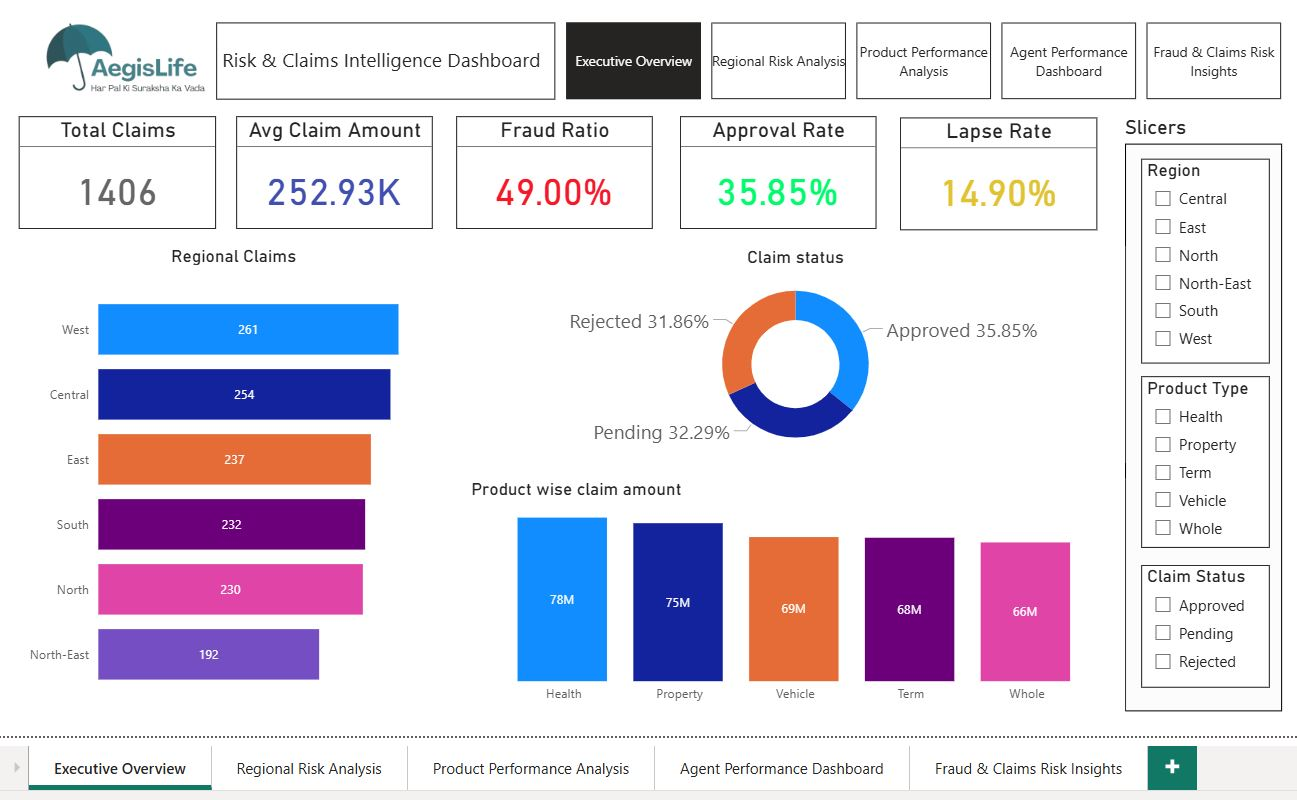

The dashboard page shown, as its layout file describes it:
{"tool":"powerbi","page":{"name":"Executive Overview","canvas":[1280,720],"ordinal":0},"visuals":[{"type":"shape","title":"Slicers","box":[1100.5,122.4,151.7,574.6],"z":0},{"type":"textbox","box":[223.2,31.4,326.9,74.8],"z":1000},{"type":"card","title":"Total Claims","fields":{"Values":["AllMeasures.Total Claims"]},"box":[32,122.4,190.6,108.5],"z":2000},{"type":"card","title":"Avg Claim Amount","fields":{"Values":["AllMeasures.Avg Claim Amount"]},"box":[242.1,122.4,189.2,108.5],"z":3000},{"type":"card","title":"Approval Rate","fields":{"Values":["AllMeasures.Approval Rate 1%"]},"box":[670.6,122.4,189.2,108.5],"z":4000},{"type":"card","title":"Fraud Ratio","fields":{"Values":["AllMeasures.Fraud Ratio %"]},"box":[455,122.4,189.2,108.5],"z":5000},{"type":"card","title":"Lapse Rate","fields":{"Values":["AllMeasures.Lapse Rate"]},"box":[882.6,123.1,190,108.6],"z":6000},{"type":"barChart","title":"Regional Claims","fields":{"Y":["AllMeasures.Total Claims"],"Category":["aegislife_insurance customer_master.region"],"Series":["aegislife_insurance customer_master.region"]},"box":[32.6,246.1,415,451.2],"z":7000},{"type":"columnChart","title":"Product wise claim amount","fields":{"Y":["AllMeasures.Total Claim Amount"],"Category":["aegislife_insurance policy_details.product_type"],"Series":["aegislife_insurance policy_details.product_type"]},"box":[464.5,471.7,635.8,225.6],"z":8000},{"type":"donutChart","title":"Claim status","fields":{"Category":["aegislife_insurance claim_history.claim_status"],"Y":["CountNonNull(aegislife_insurance claim_history.policy_id)"]},"box":[464.5,247.3,635.8,208.7],"z":9000},{"type":"pageNavigator","box":[561,31.4,692.5,74.8],"z":10000},{"type":"slicer","title":"Region","fields":{"Values":["aegislife_insurance agent_info.region"]},"box":[1115.8,162.8,123.8,197.6],"z":11000},{"type":"slicer","title":"Product Type","fields":{"Values":["aegislife_insurance policy_details.product_type"]},"box":[1115.8,372.9,123.8,165.6],"z":12000},{"type":"slicer","title":"Claim Status","fields":{"Values":["aegislife_insurance claim_history.claim_status"]},"box":[1115.8,555.1,123.8,118.3],"z":13000},{"type":"image","box":[0,0,265.4,143.6],"z":14000}]}

Visuals, with their boxes on the page's 1280x720 design canvas (x1, y1, x2, y2). These are canvas units, not pixel positions in the 1297x800 screenshot, which may show the page scaled, cropped or inside an application window:
"Slicers" shape: crop(1100, 122, 1252, 697)
textbox: crop(223, 31, 550, 106)
"Total Claims" card: crop(32, 122, 223, 231)
"Avg Claim Amount" card: crop(242, 122, 431, 231)
"Approval Rate" card: crop(671, 122, 860, 231)
"Fraud Ratio" card: crop(455, 122, 644, 231)
"Lapse Rate" card: crop(883, 123, 1073, 232)
"Regional Claims" barChart: crop(33, 246, 448, 697)
"Product wise claim amount" columnChart: crop(464, 472, 1100, 697)
"Claim status" donutChart: crop(464, 247, 1100, 456)
pageNavigator: crop(561, 31, 1254, 106)
"Region" slicer: crop(1116, 163, 1240, 360)
"Product Type" slicer: crop(1116, 373, 1240, 538)
"Claim Status" slicer: crop(1116, 555, 1240, 673)
image: crop(0, 0, 265, 144)
